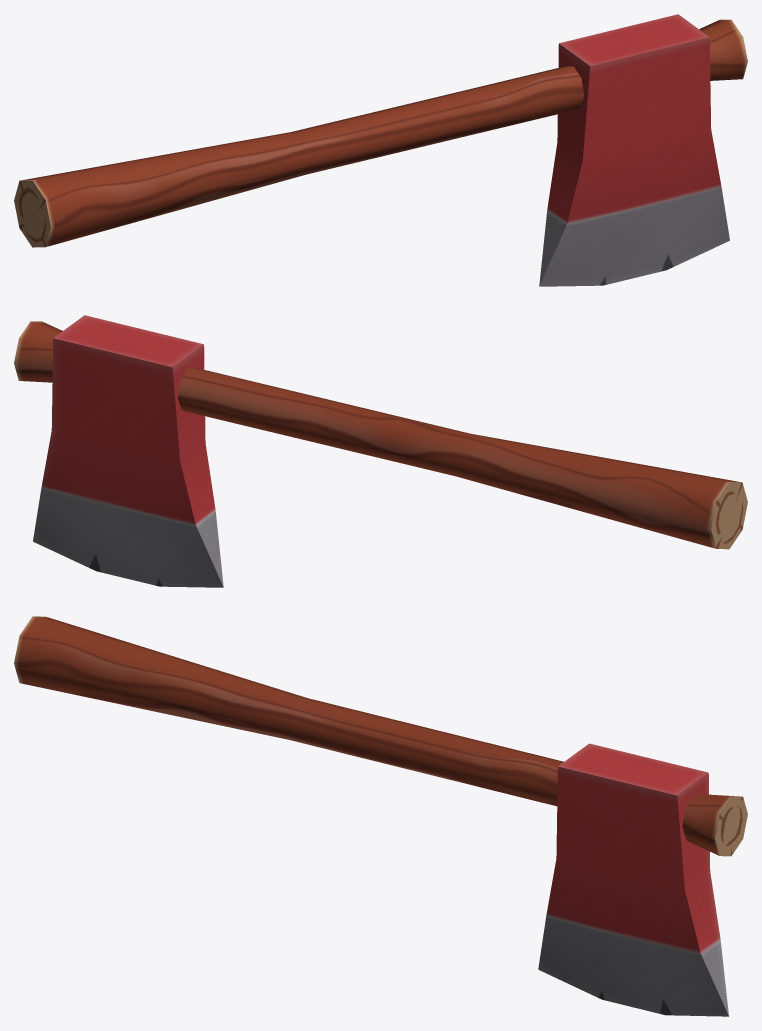
File: Axe.FBX
The picture shows the model from 3 angles, top to bottom: view 1: azimuth 30°, elevation 25°; view 2: azimuth 150°, elevation 25°; view 3: azimuth 330°, elevation 25°; orthographic projection.
Visible parts, largest first — view 1: Axe; view 2: Axe; view 3: Axe.
Boxes of the visible parts, bbox=[...] form: Axe: bbox=[14, 14, 747, 286]; Axe: bbox=[14, 315, 747, 587]; Axe: bbox=[14, 616, 747, 1016].
Bounding box in the file's own units: 87.89 × 29.32 × 8.05.
